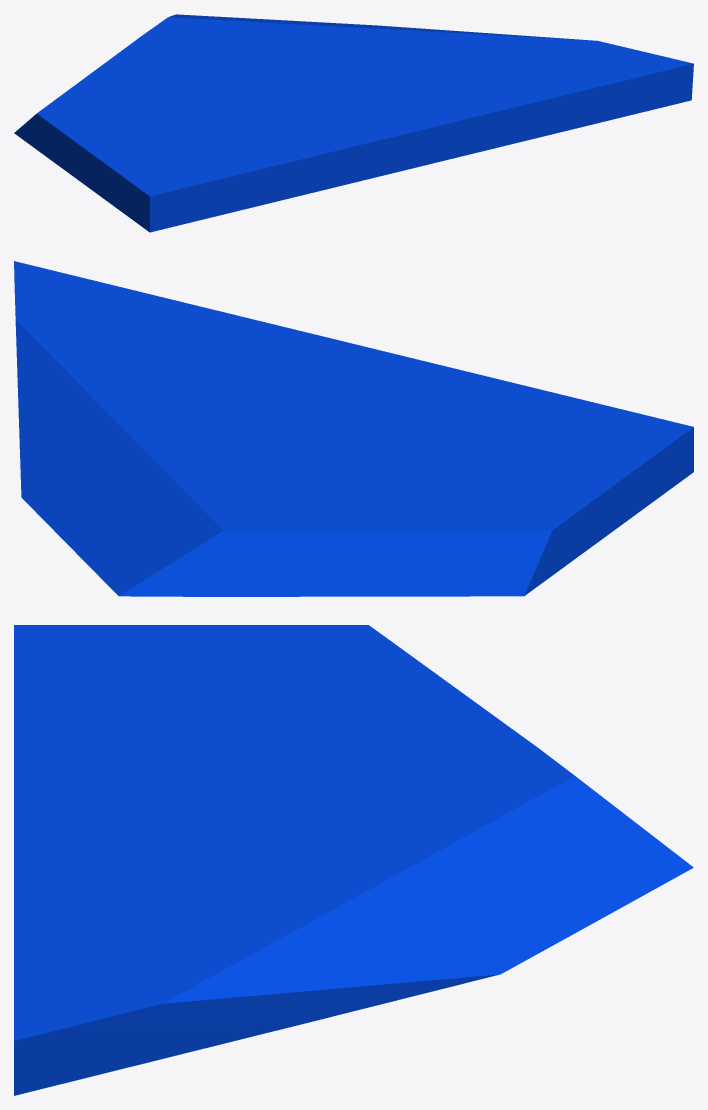
File: glass2-temp.glb
The picture shows the model from 3 angles, top to bottom: view 1: azimuth 30°, elevation 25°; view 2: azimuth 150°, elevation 25°; view 3: azimuth 270°, elevation 25°; orthographic projection. The views are drawn at different scales.
Parts seen in each view (by area): view 1: Glass_cell_001_cell_002Shape_30_0; view 2: Glass_cell_001_cell_002Shape_30_0; view 3: Glass_cell_001_cell_002Shape_30_0.
Boxes of the visible parts, x1,y1,x2,y2 form: Glass_cell_001_cell_002Shape_30_0: (14,14,693,232); Glass_cell_001_cell_002Shape_30_0: (14,261,693,596); Glass_cell_001_cell_002Shape_30_0: (14,625,693,1095).
Bounding box in the file's own units: 0.1974 × 0.0125 × 0.1364.
